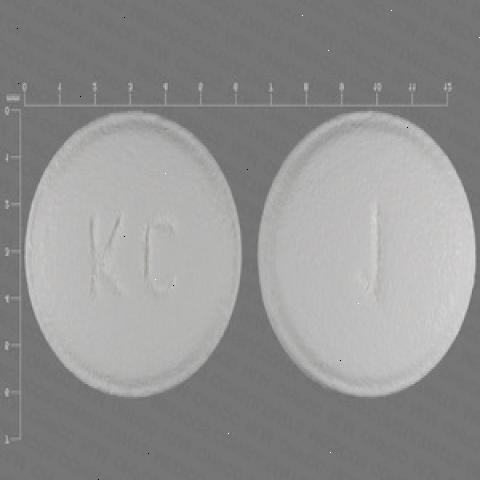Pill: (18, 95, 254, 403), (254, 105, 480, 401)
